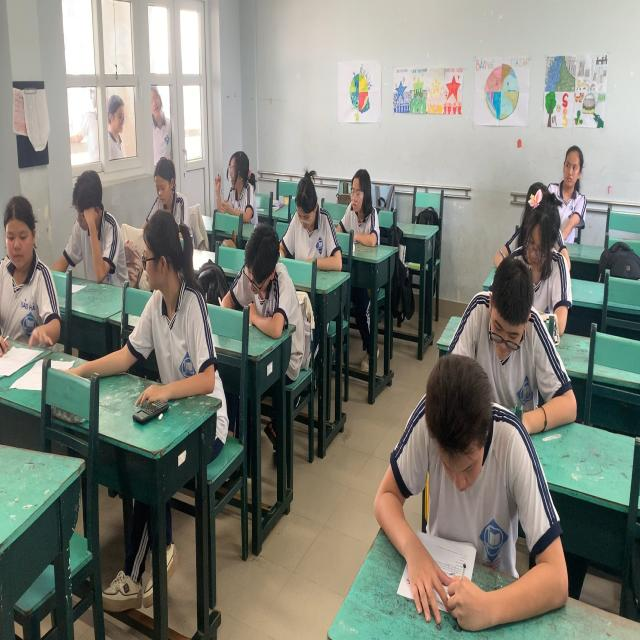cheating: (131, 205, 220, 402), (0, 192, 55, 381), (209, 132, 259, 222)
not_cheating: (372, 351, 551, 616), (457, 274, 572, 426), (502, 189, 572, 330), (61, 168, 125, 284), (276, 168, 344, 272), (232, 226, 288, 330), (545, 143, 589, 257), (133, 150, 191, 229), (333, 167, 384, 247)
